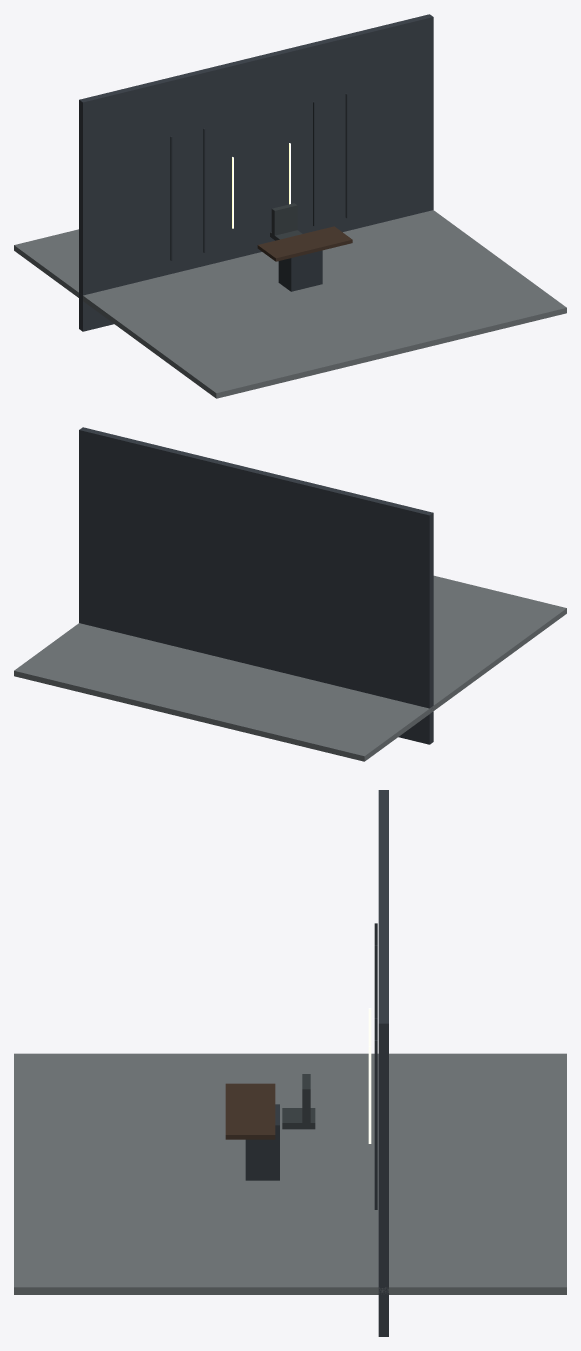
The model's file is interviewer-studio.glb.
3 views of the same model, one above another, from view 1: azimuth 30°, elevation 25°; view 2: azimuth 150°, elevation 25°; view 3: azimuth 270°, elevation 25° (orthographic). The views are drawn at different scales.
Visible parts, largest first — view 1: Seamless backdrop, Floor, Interview desk, Desk pedestal, Chair back; view 2: Seamless backdrop, Floor; view 3: Floor, Seamless backdrop, Interview desk, Desk pedestal, Acoustic panel.003.
Part boxes in pixels (x1=…): Seamless backdrop: x1=79, y1=14, x2=433, y2=331; Floor: x1=14, y1=210, x2=566, y2=398; Interview desk: x1=257, y1=226, x2=352, y2=261; Desk pedestal: x1=278, y1=250, x2=322, y2=291; Chair back: x1=271, y1=203, x2=297, y2=235; Seamless backdrop: x1=79, y1=427, x2=433, y2=744; Floor: x1=14, y1=575, x2=566, y2=761; Floor: x1=14, y1=1053, x2=566, y2=1294; Seamless backdrop: x1=378, y1=790, x2=388, y2=1336; Interview desk: x1=225, y1=1083, x2=275, y2=1139; Desk pedestal: x1=245, y1=1104, x2=279, y2=1180; Acoustic panel.003: x1=374, y1=1040, x2=377, y2=1209.
Size of the model in its own units: 8 by 5 by 8.
